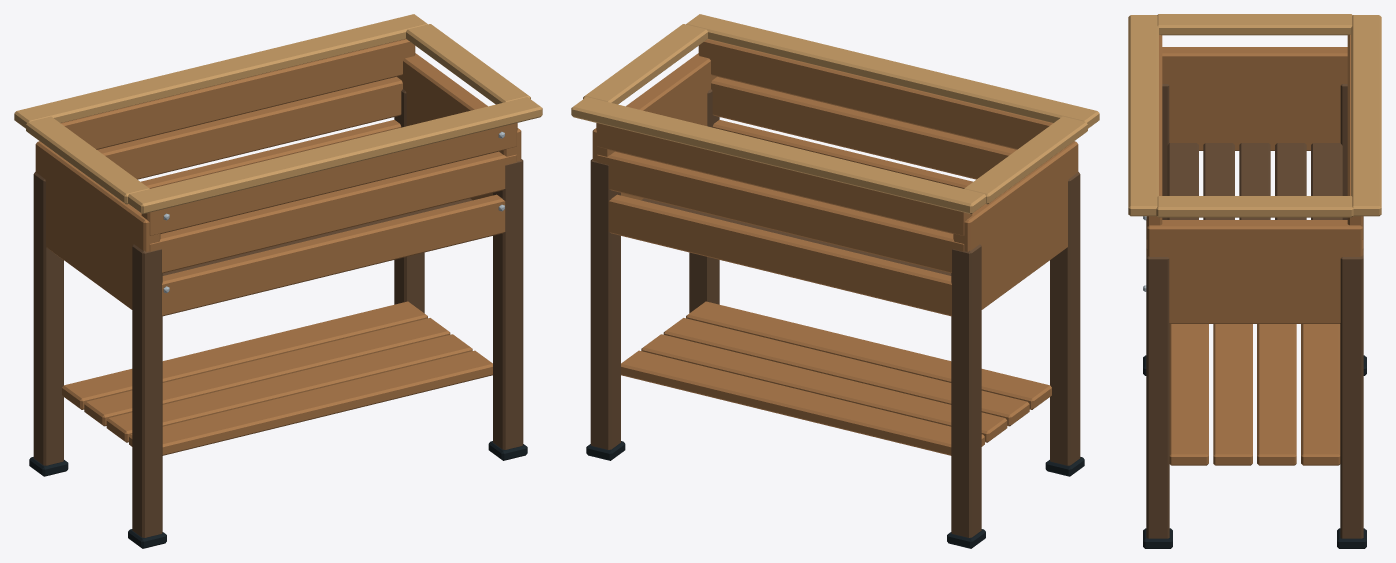
Rendered from b11_elevated_cedar_garden_planter.glb.
3 views of the same model, side by side, from view 1: azimuth 30°, elevation 25°; view 2: azimuth 150°, elevation 25°; view 3: azimuth 270°, elevation 25° (orthographic).
Visible parts, largest first — view 1: b11_elevated_cedar_garden_planter; view 2: b11_elevated_cedar_garden_planter; view 3: b11_elevated_cedar_garden_planter.
Boxes of the visible parts, bbox=[...] form: b11_elevated_cedar_garden_planter: bbox=[14, 14, 542, 548]; b11_elevated_cedar_garden_planter: bbox=[571, 14, 1099, 548]; b11_elevated_cedar_garden_planter: bbox=[1128, 14, 1381, 548].
Bounding box in the file's own units: 1.28 × 1.07 × 0.705.
